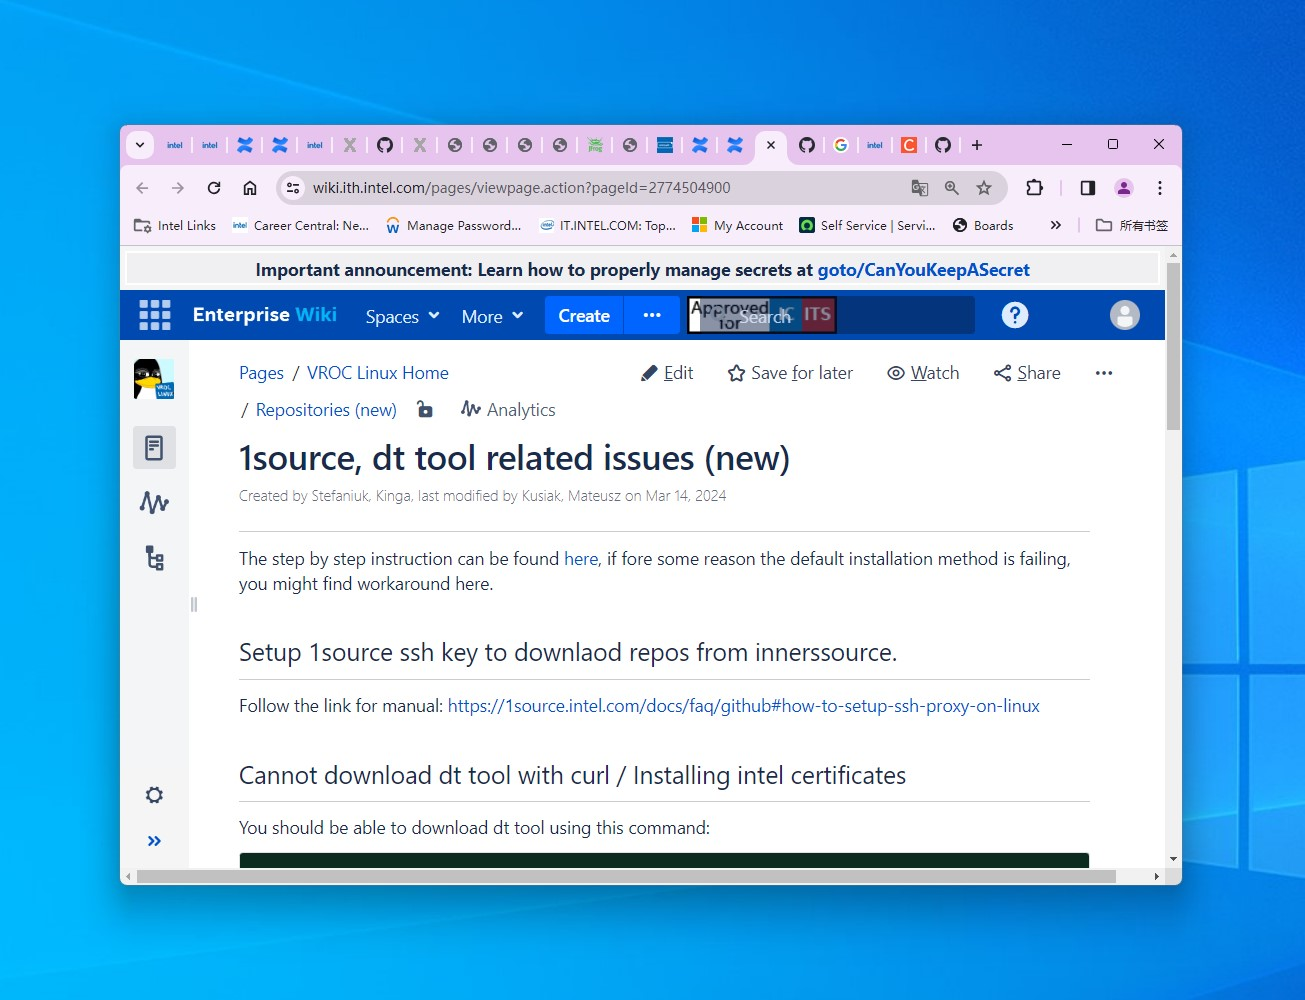button_create: (544, 294, 625, 338)
search_box: (703, 297, 978, 335)
